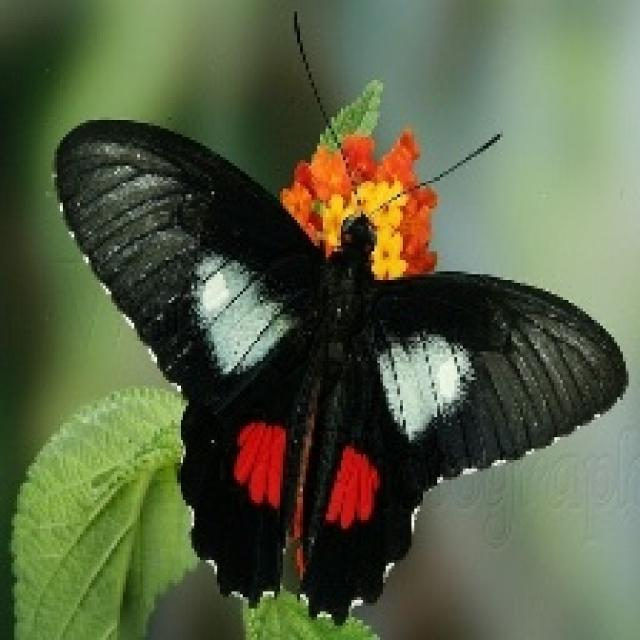butterfly: (49, 8, 628, 626)
